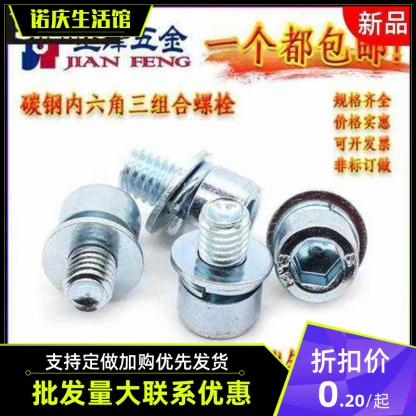FOD: (33, 180, 146, 315), (169, 195, 273, 341), (118, 128, 266, 230), (40, 217, 146, 304), (170, 223, 275, 296)
